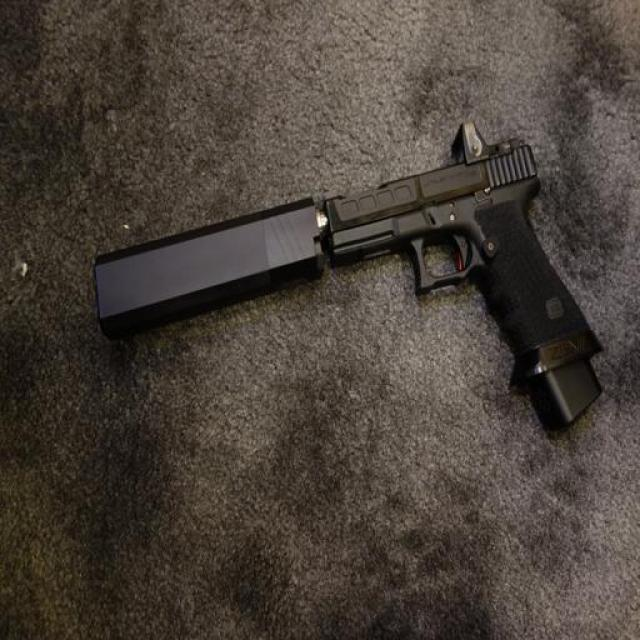pistol: (319, 121, 608, 417)
